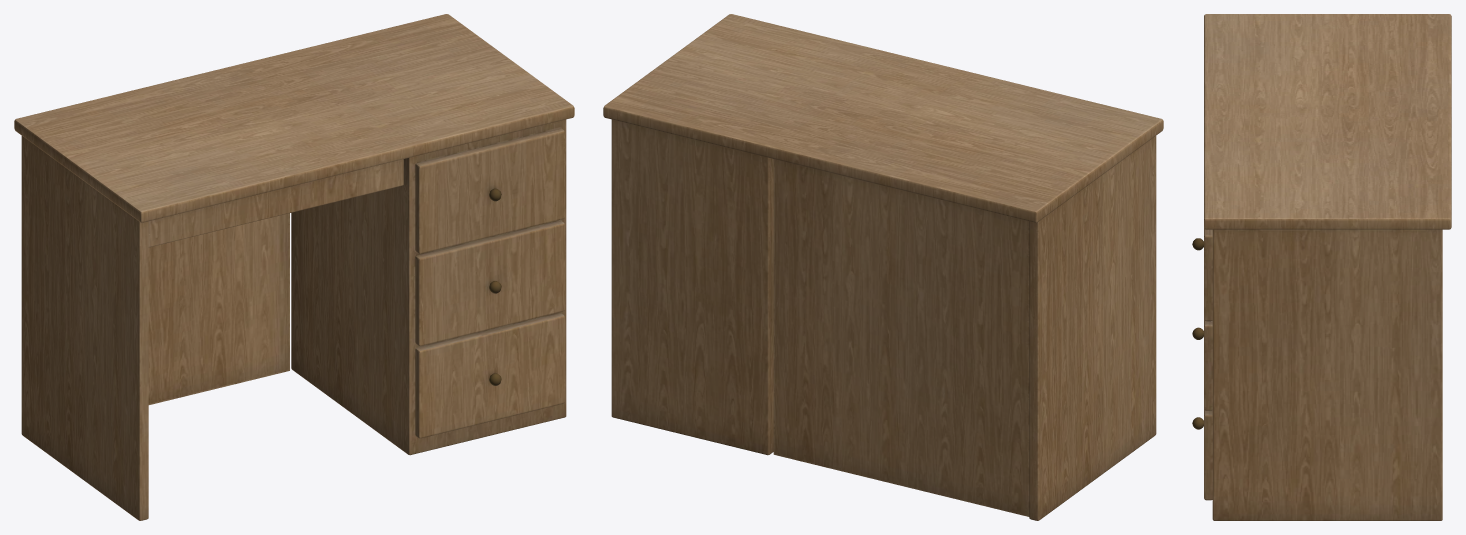
File: desk.glb
3 views of the same model, side by side, from view 1: azimuth 30°, elevation 25°; view 2: azimuth 150°, elevation 25°; view 3: azimuth 270°, elevation 25° (orthographic). The views are drawn at different scales.
Parts seen in each view (by area): view 1: desk; view 2: desk; view 3: desk.
Part boxes in pixels (x1=…): desk: x1=14, y1=14, x2=574, y2=520; desk: x1=603, y1=14, x2=1163, y2=520; desk: x1=1192, y1=14, x2=1451, y2=520.
Bounding box in the file's own units: 1.1 × 0.76 × 0.5861.
Materials: 1 (1 with a texture image).
